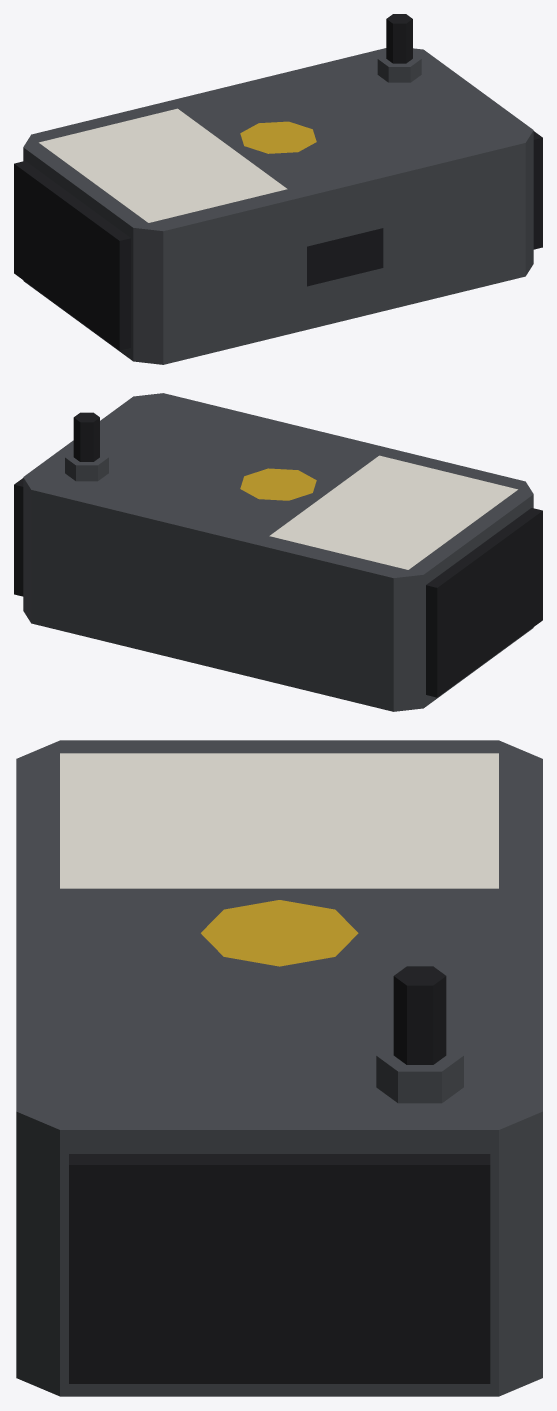
The model's file is field_logger.glb.
3 views of the same model, one above another, from view 1: azimuth 30°, elevation 25°; view 2: azimuth 150°, elevation 25°; view 3: azimuth 270°, elevation 25° (orthographic). The views are drawn at different scales.
Visible parts, largest first — view 1: field_logger; view 2: field_logger; view 3: field_logger.
Boxes of the visible parts, x1,y1,x2,y2 form: field_logger: [14, 14, 542, 364]; field_logger: [14, 393, 542, 711]; field_logger: [16, 740, 542, 1396].
Size of what is drawn, in the model's own units: 0.222 by 0.098 by 0.1205.
